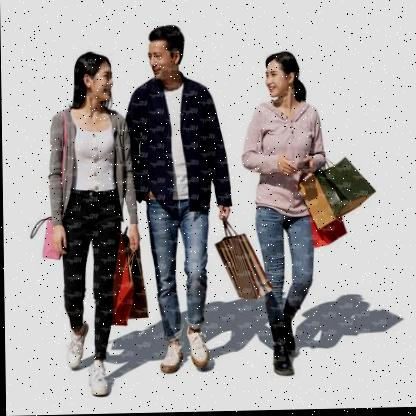person: (237, 47, 378, 379), (21, 47, 142, 397), (125, 21, 240, 374)
